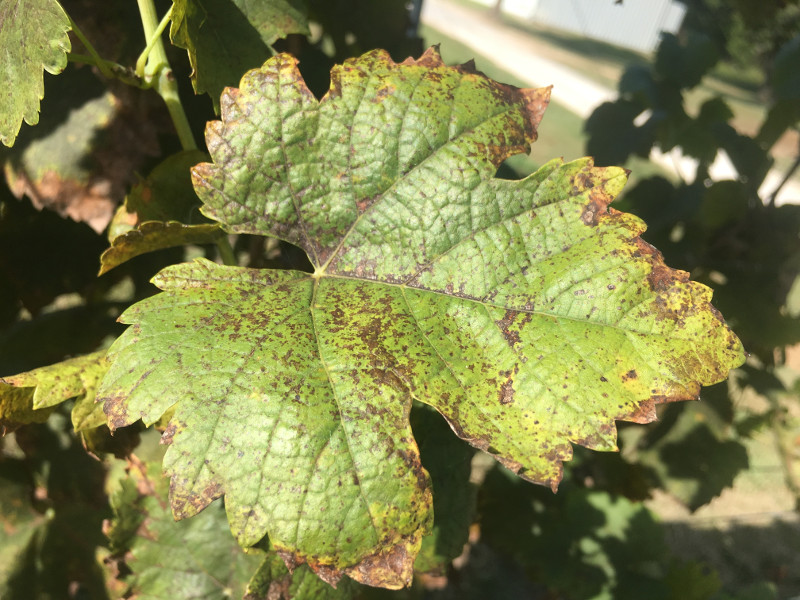downy: (166, 273, 410, 517), (358, 80, 543, 265), (433, 269, 576, 412), (214, 93, 348, 227), (581, 266, 696, 381), (553, 177, 638, 262), (319, 526, 376, 583)
